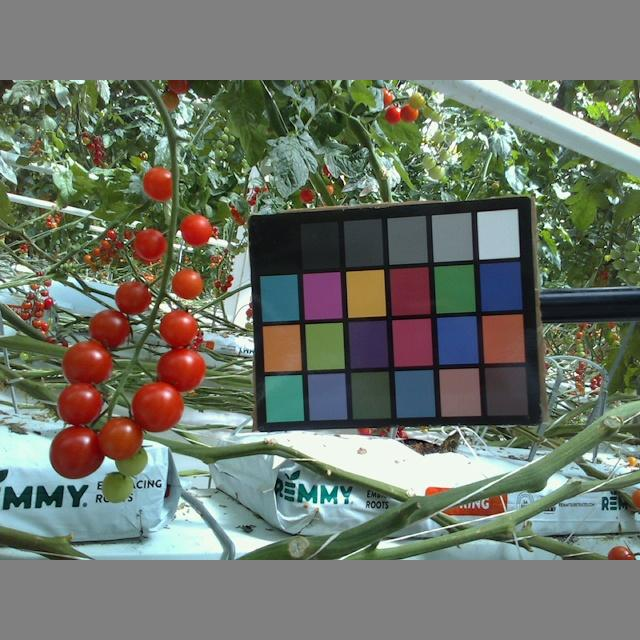green: (112, 444, 150, 474), (99, 469, 132, 503)
red: (132, 378, 186, 433), (49, 427, 105, 478), (61, 338, 111, 389), (55, 379, 103, 426), (95, 414, 142, 461), (157, 347, 206, 392), (88, 309, 132, 350), (159, 310, 201, 345), (115, 281, 152, 318), (177, 214, 215, 248), (135, 226, 166, 264), (145, 166, 178, 201), (172, 268, 203, 300)
